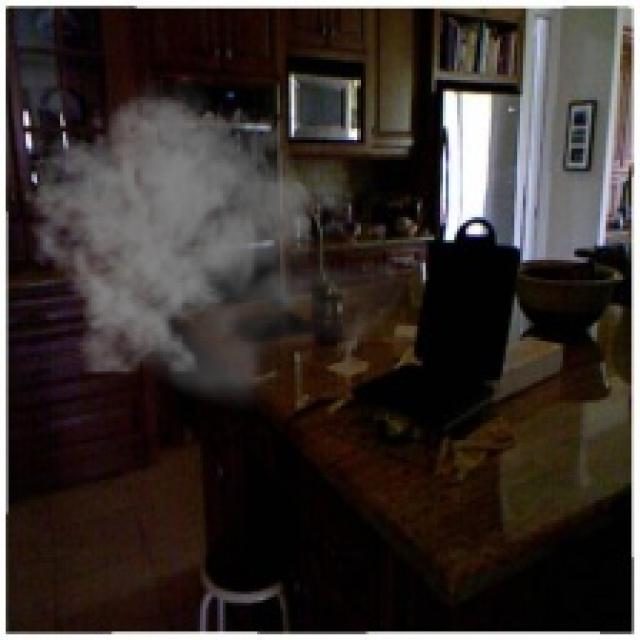smoke: (23, 72, 414, 414)
